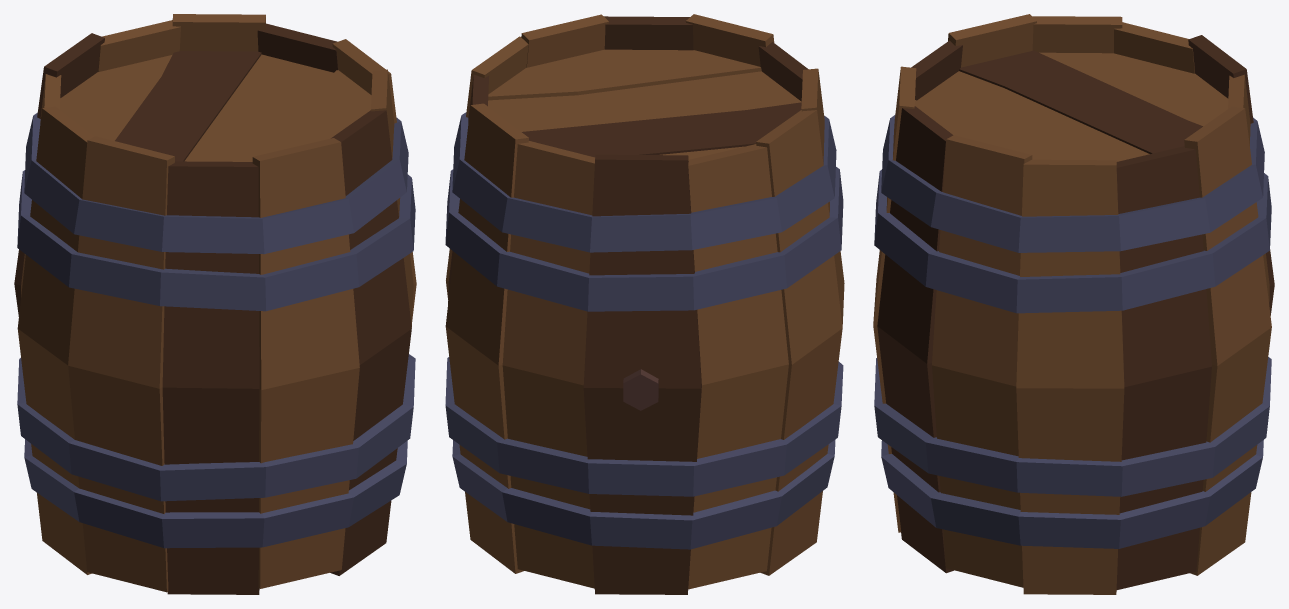
The model's file is Wooden_Barrel02.fbx.
3 renders of one model, left to right at view 1: azimuth 30°, elevation 25°; view 2: azimuth 150°, elevation 25°; view 3: azimuth 270°, elevation 25°, orthographic.
Parts seen in each view (by area): view 1: SM_Wooden_Barrel_Small; view 2: SM_Wooden_Barrel_Small; view 3: SM_Wooden_Barrel_Small.
Part boxes in pixels (x1,y1,x2,y2): SM_Wooden_Barrel_Small: (14,14,416,594); SM_Wooden_Barrel_Small: (445,14,844,594); SM_Wooden_Barrel_Small: (873,14,1274,594).
Bounding box in the file's own units: 0.9269 × 0.777 × 0.7726.
